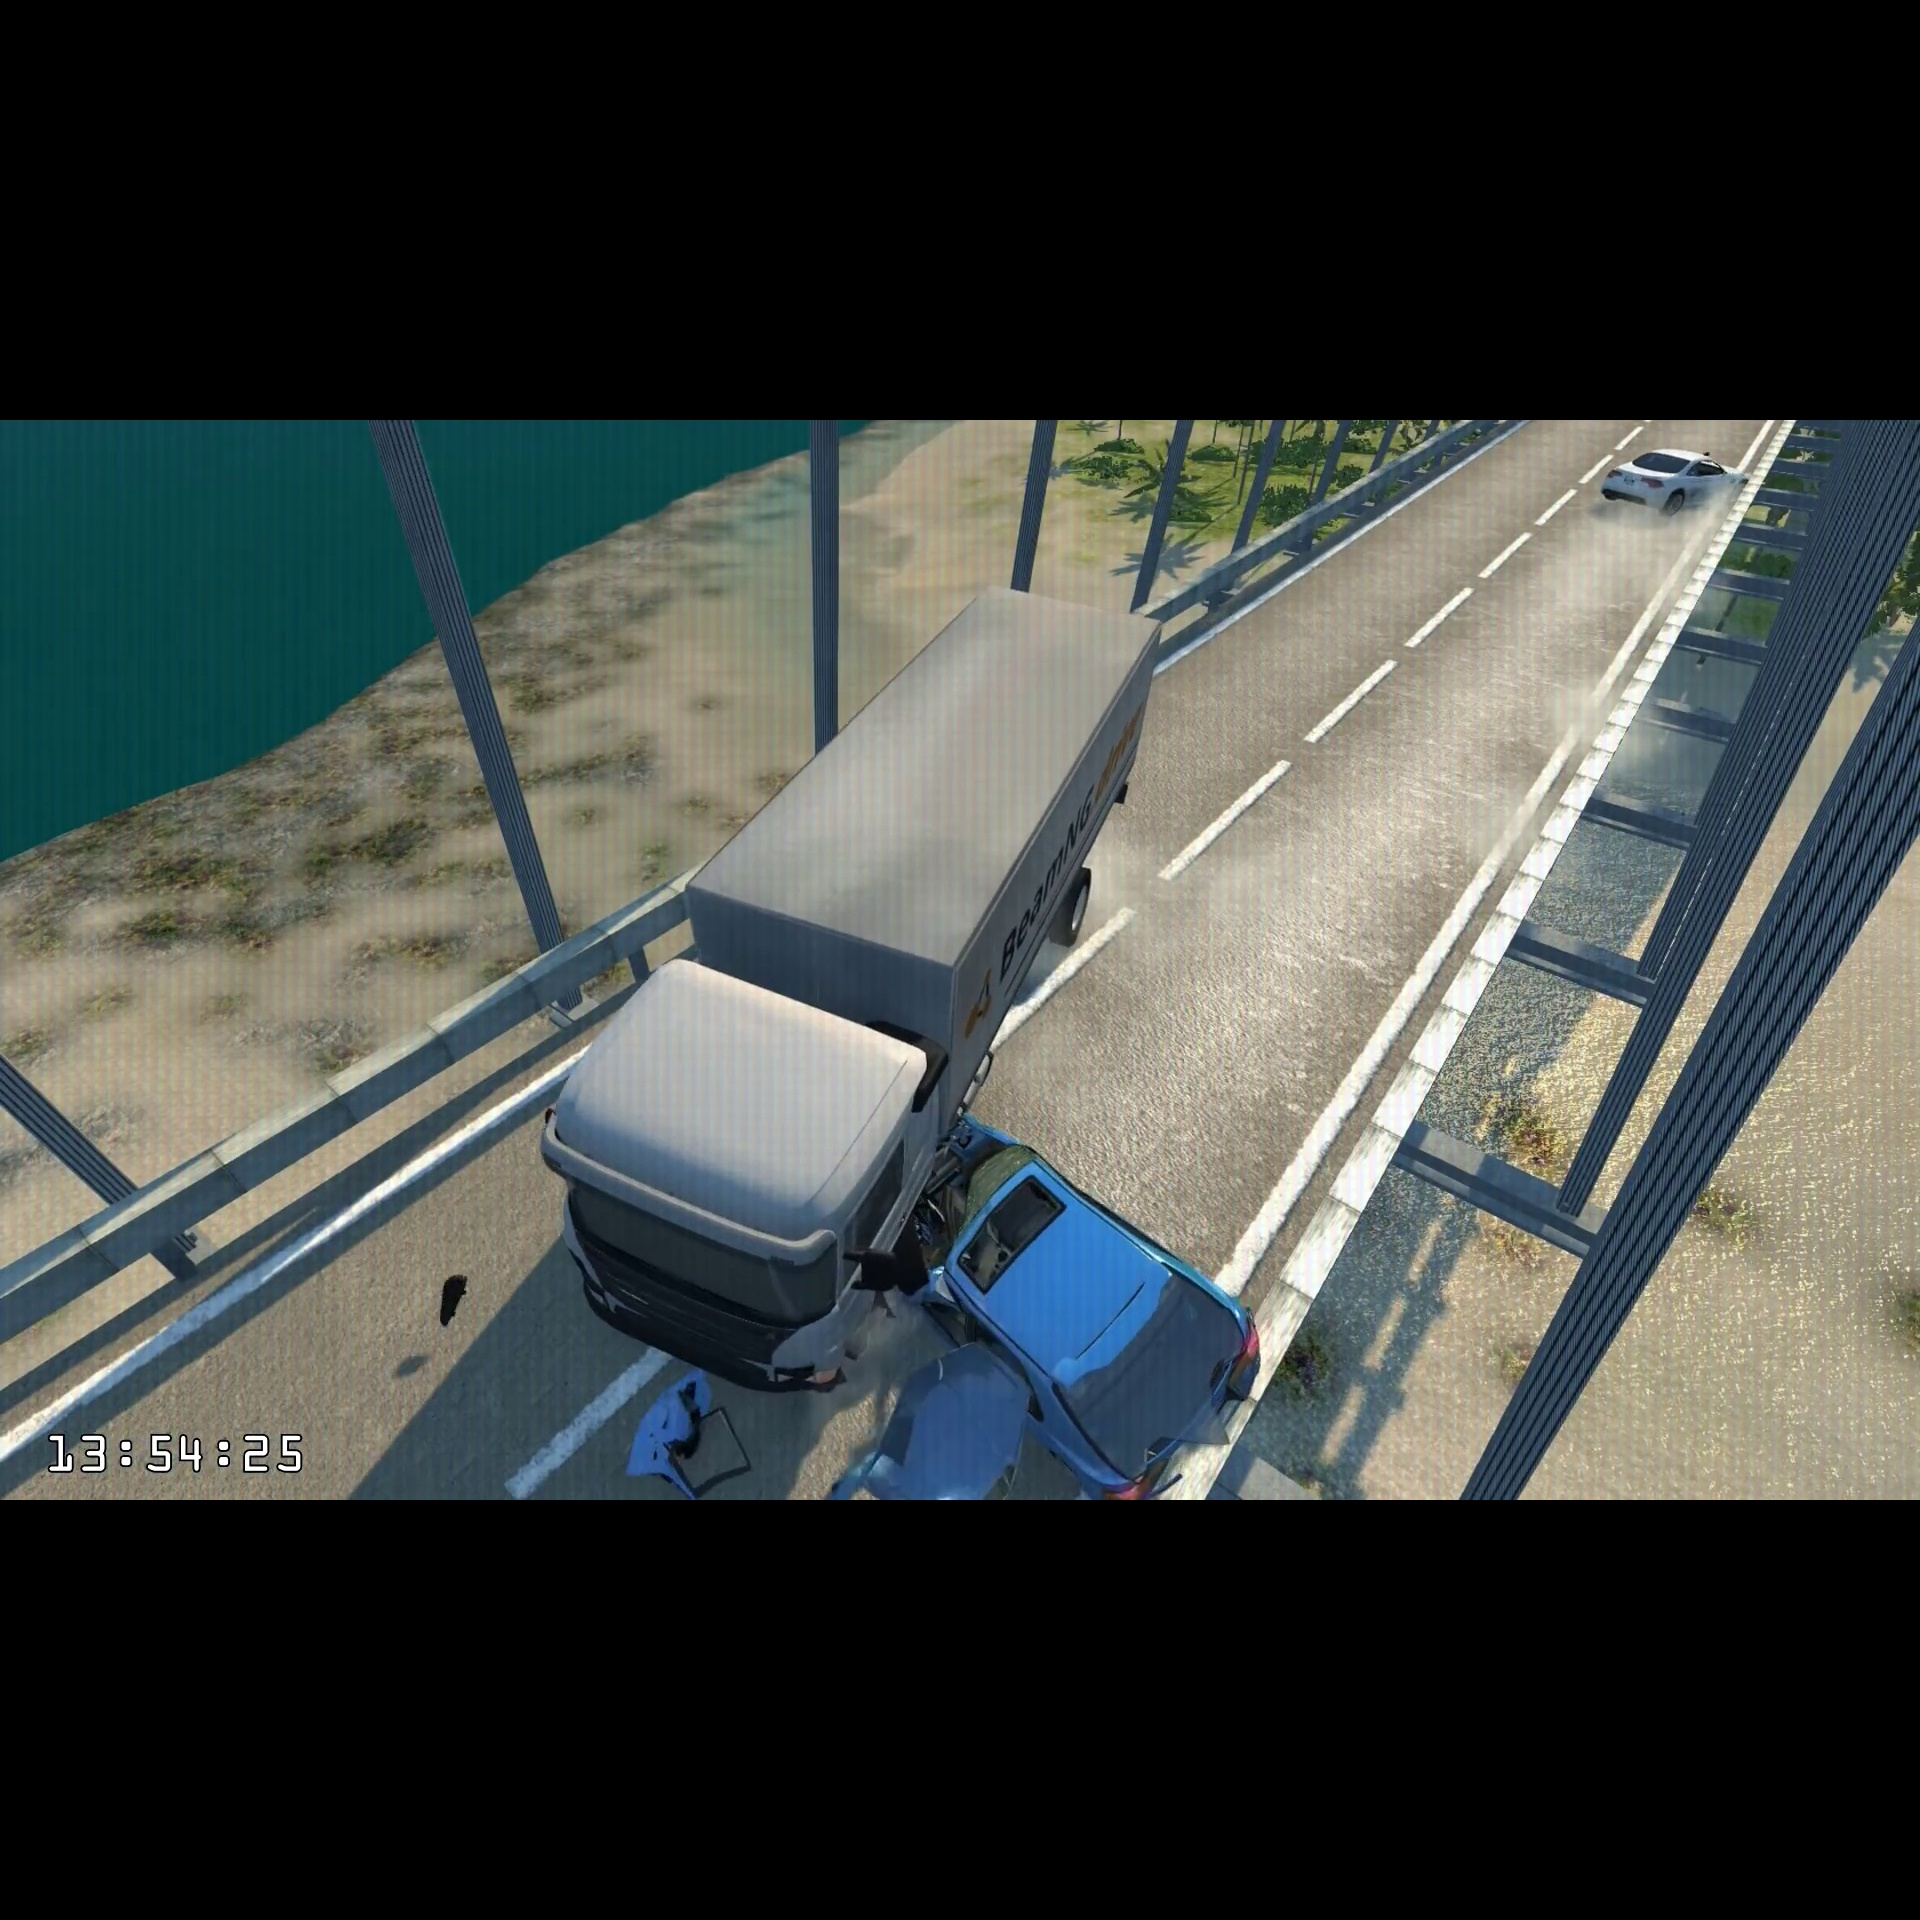vehicle: (529, 577, 1169, 1398), (876, 1116, 1269, 1503), (1591, 445, 1755, 524)
